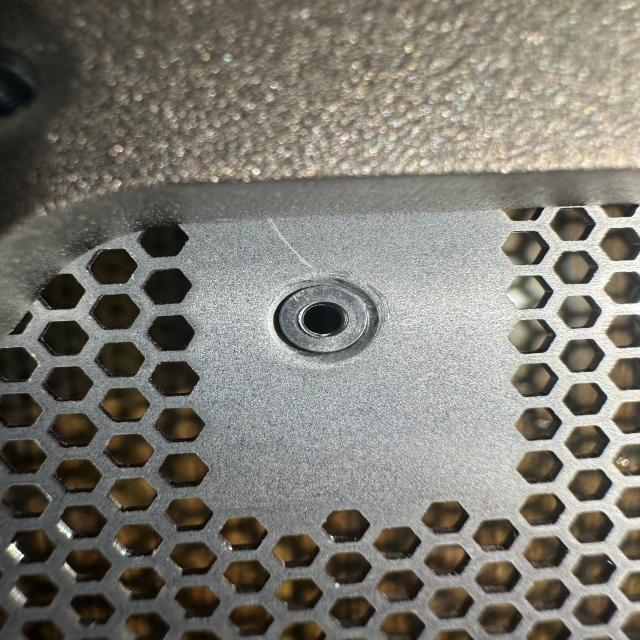Missing screw: (262, 276, 398, 367)
